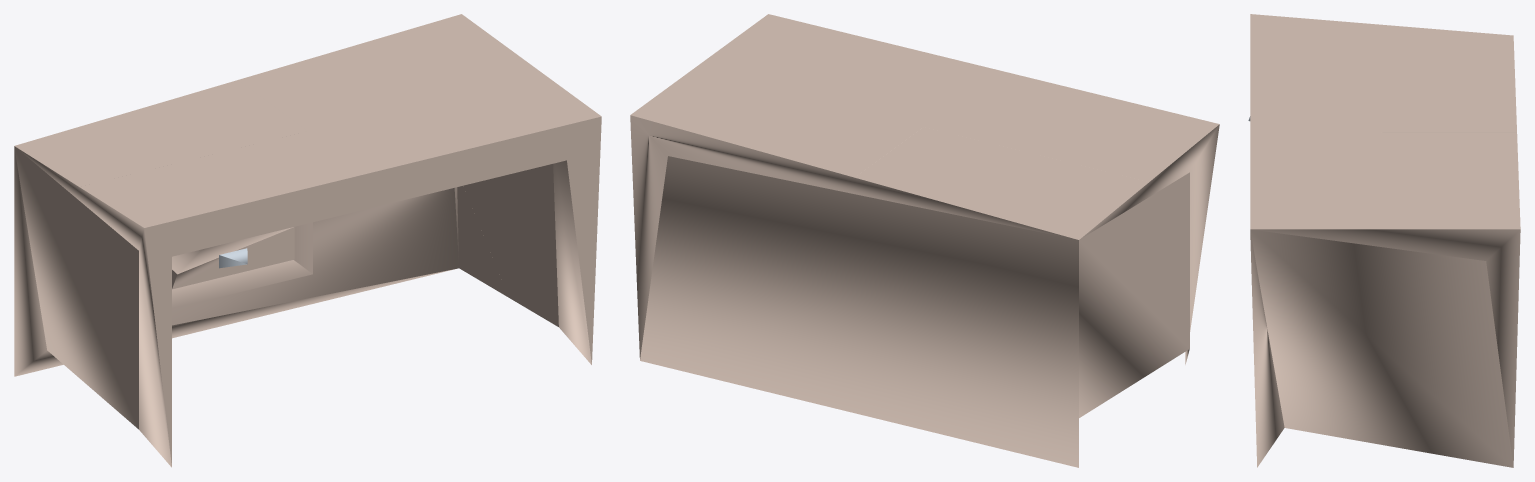
The model's file is desk.glb.
The picture shows the model from 3 angles, left to right: view 1: azimuth 30°, elevation 25°; view 2: azimuth 150°, elevation 25°; view 3: azimuth 270°, elevation 25°; orthographic projection. The views are drawn at different scales.
Parts seen in each view (by area): view 1: Mesh desk, drawer; view 2: Mesh desk; view 3: Mesh desk.
Boxes of the visible parts, bbox=[...] form: Mesh desk: bbox=[14, 14, 601, 467]; drawer: bbox=[172, 227, 294, 289]; Mesh desk: bbox=[630, 14, 1219, 467]; Mesh desk: bbox=[1250, 14, 1520, 467].
Size of the model in its own units: 0.7345 by 0.3838 by 0.3921.
